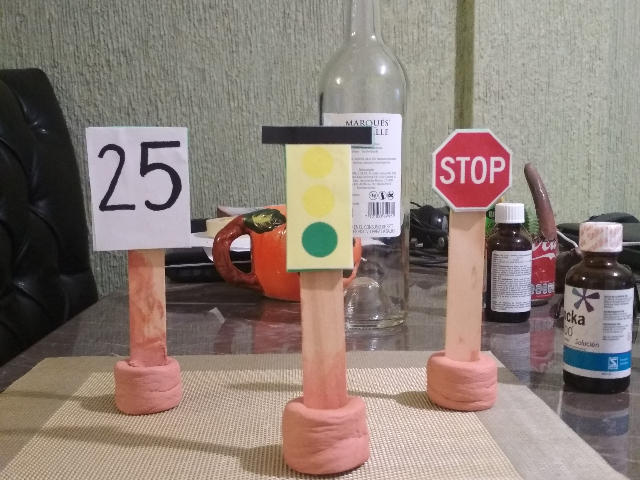Green: (256, 120, 374, 276)
Limit 25: (80, 123, 198, 252)
Stop: (428, 123, 514, 214)
